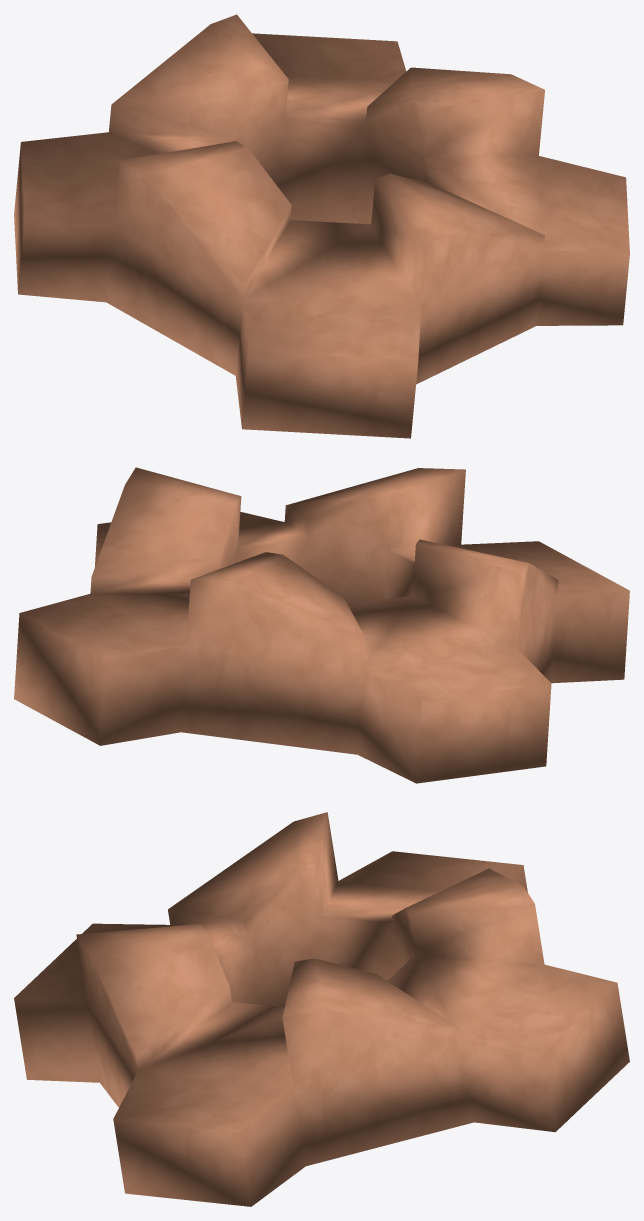
The model's file is Cog3.fbx.
The picture shows the model from 3 angles, top to bottom: view 1: azimuth 30°, elevation 25°; view 2: azimuth 150°, elevation 25°; view 3: azimuth 270°, elevation 25°; orthographic projection. The views are drawn at different scales.
Parts seen in each view (by area): view 1: polySurface1160; view 2: polySurface1160; view 3: polySurface1160.
Part boxes in pixels (x1,y1,x2,y2): polySurface1160: (14, 14, 629, 438); polySurface1160: (14, 467, 629, 783); polySurface1160: (14, 812, 629, 1206).
Bounding box in the file's own units: 7.95 × 3.17 × 8.13.
